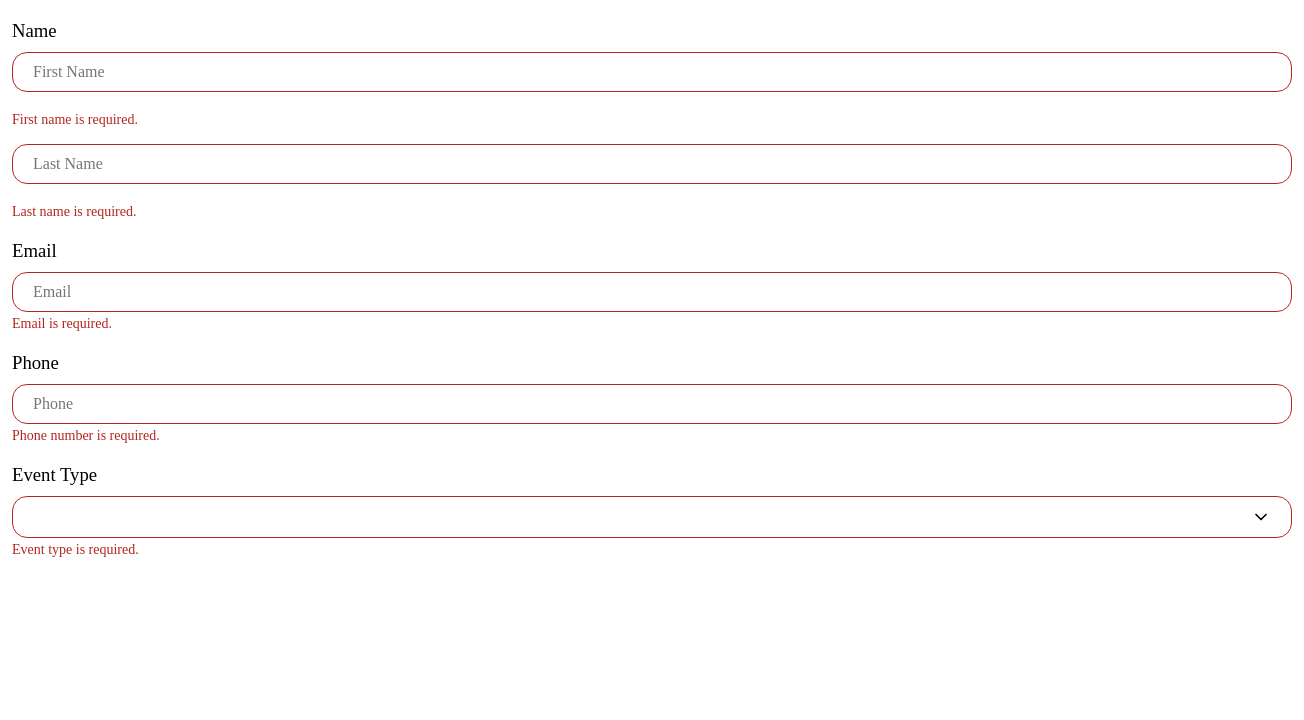
Test: Information step — field validation › Last Name › clears the error when a valid last name is entered
Expected: the text "Last name is required." is shown, [12,204,136,219]
Type "Doe" into the field with placeholder "Last Name". click: (652, 164)
box: [12,144,1292,184]
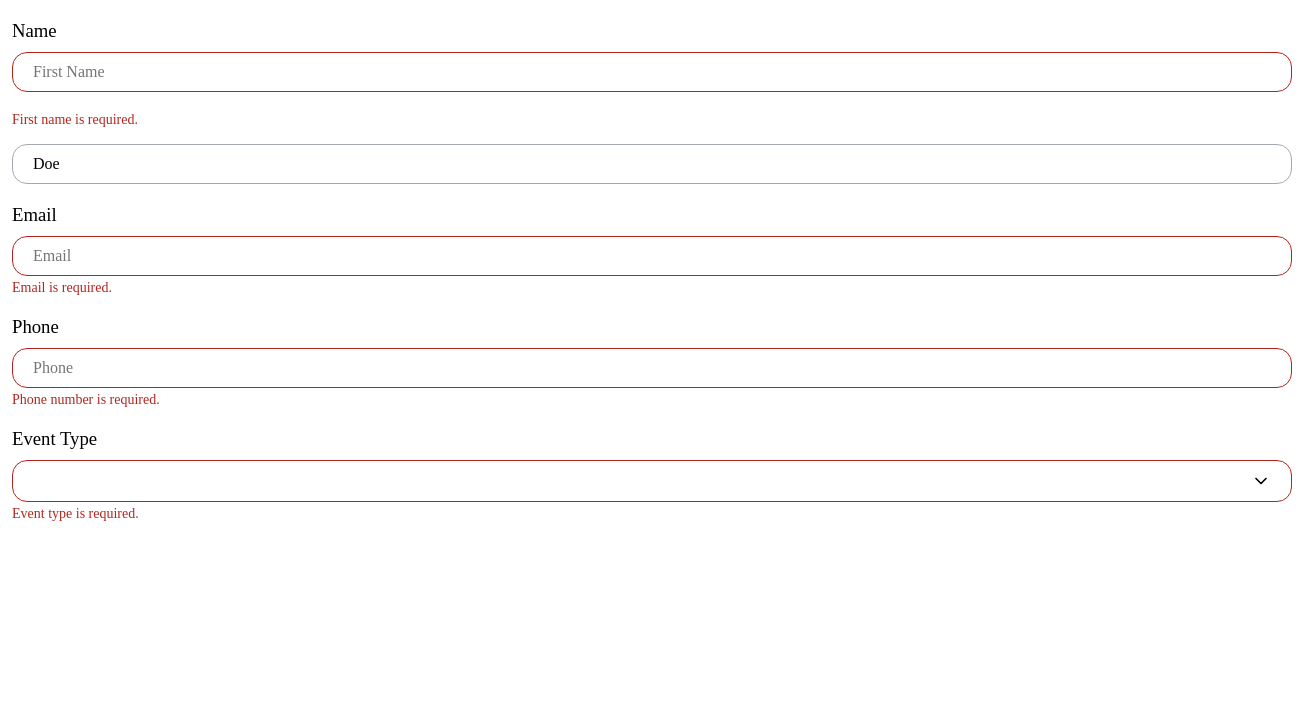
Now the text "Last name is required." is gone
